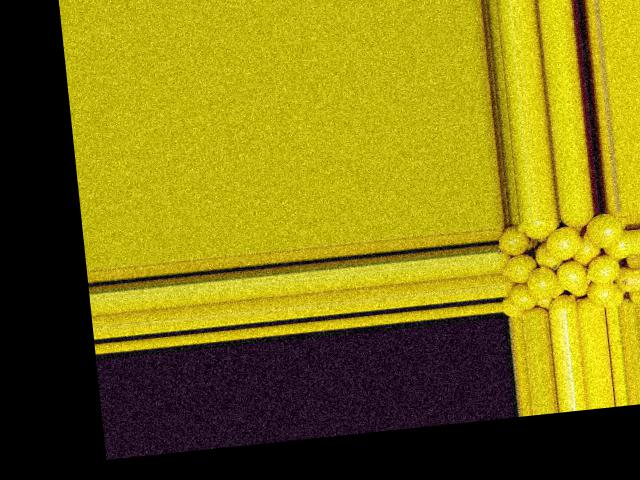lemon: (513, 217, 559, 240)
